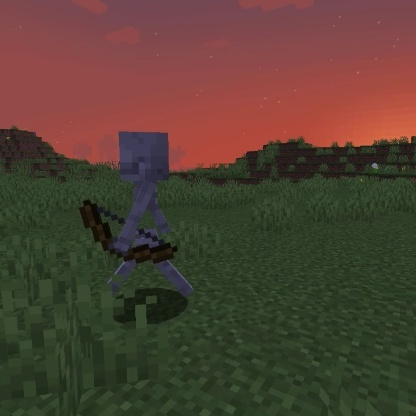skeleton: (76, 127, 197, 302)
